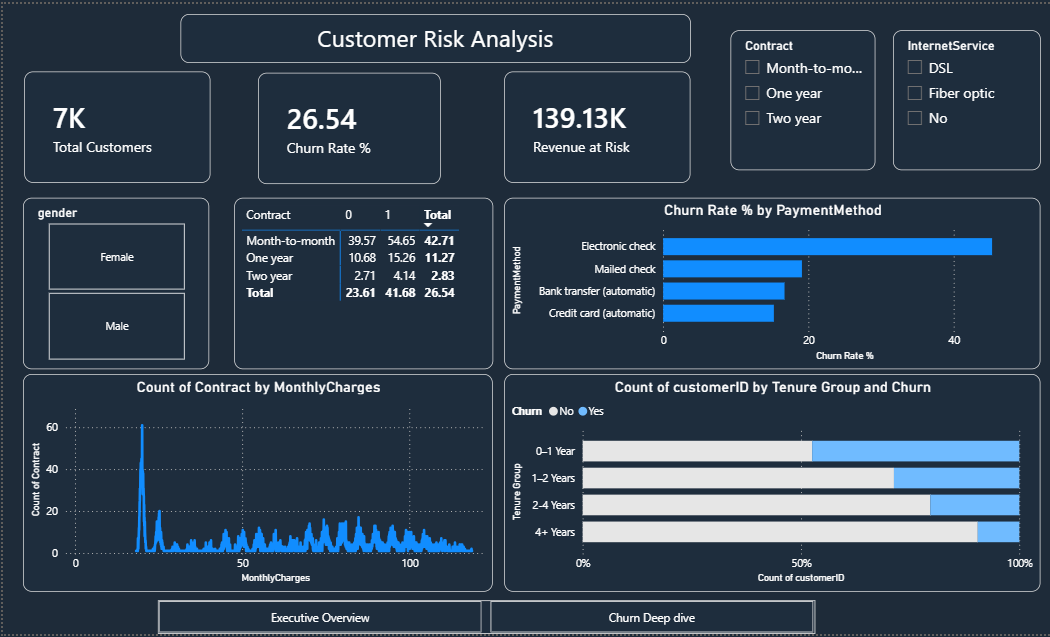

Layout of this report page (visuals, bound fields, positions):
{"tool":"powerbi","page":{"name":"Customer Risk Analysis","canvas":[1280,720],"ordinal":1},"visuals":[{"type":"cardVisual","fields":{"Data":["WA_Fn-UseC_-Telco-Customer-Churn.Total Customers"]},"box":[24.3,77.1,212.9,127.1],"z":0},{"type":"cardVisual","fields":{"Data":["WA_Fn-UseC_-Telco-Customer-Churn.Churn Rate %"]},"box":[291.4,78.6,208.6,127.1],"z":1000},{"type":"cardVisual","fields":{"Data":["WA_Fn-UseC_-Telco-Customer-Churn.Revenue at Risk"]},"box":[572.9,77.1,212.9,127.1],"z":2000},{"type":"slicer","fields":{"Values":["WA_Fn-UseC_-Telco-Customer-Churn.Contract"]},"box":[831.4,30,165.7,160],"z":6000},{"type":"slicer","fields":{"Values":["WA_Fn-UseC_-Telco-Customer-Churn.InternetService"]},"box":[1017.1,30,168.6,160],"z":7000},{"type":"hundredPercentStackedBarChart","fields":{"Category":["WA_Fn-UseC_-Telco-Customer-Churn.Tenure Group"],"Y":["CountNonNull(WA_Fn-UseC_-Telco-Customer-Churn.customerID)"],"Series":["WA_Fn-UseC_-Telco-Customer-Churn.Churn"]},"box":[572.9,422.9,612.9,248.6],"z":7001},{"type":"barChart","fields":{"Category":["WA_Fn-UseC_-Telco-Customer-Churn.PaymentMethod"],"Y":["WA_Fn-UseC_-Telco-Customer-Churn.Churn Rate %"]},"box":[572.9,221.4,612.9,195.7],"z":7002},{"type":"pivotTable","fields":{"Rows":["WA_Fn-UseC_-Telco-Customer-Churn.Contract"],"Columns":["WA_Fn-UseC_-Telco-Customer-Churn.SeniorCitizen"],"Values":["WA_Fn-UseC_-Telco-Customer-Churn.Churn Rate %"]},"box":[264.3,221.4,295.7,195.7],"z":7003},{"type":"lineChart","fields":{"Y":["CountNonNull(WA_Fn-UseC_-Telco-Customer-Churn.Contract)"],"Category":["WA_Fn-UseC_-Telco-Customer-Churn.MonthlyCharges"]},"box":[22.9,422.9,537.1,248.6],"z":7004},{"type":"slicer","fields":{"Values":["WA_Fn-UseC_-Telco-Customer-Churn.gender"]},"box":[22.9,221.4,212.9,195.7],"z":7005},{"type":"pageNavigator","box":[177.1,681.4,751.4,38.6],"z":7006},{"type":"textbox","box":[202.9,11.4,582.9,55.7],"z":7007}]}

Visuals, with their boxes on the page's 1280x720 design canvas (x1, y1, x2, y2). These are canvas units, not pixel positions in the 1050x637 screenshot, which may show the page scaled, cropped or inside an application window:
cardVisual - WA_Fn-UseC_-Telco-Customer-Churn.Total Customers: box=[24, 77, 237, 204]
cardVisual - WA_Fn-UseC_-Telco-Customer-Churn.Churn Rate %: box=[291, 79, 500, 206]
cardVisual - WA_Fn-UseC_-Telco-Customer-Churn.Revenue at Risk: box=[573, 77, 786, 204]
slicer - WA_Fn-UseC_-Telco-Customer-Churn.Contract: box=[831, 30, 997, 190]
slicer - WA_Fn-UseC_-Telco-Customer-Churn.InternetService: box=[1017, 30, 1186, 190]
hundredPercentStackedBarChart - WA_Fn-UseC_-Telco-Customer-Churn.Tenure Group x CountNonNull(WA_Fn-UseC_-Telco-Customer-Churn.customerID): box=[573, 423, 1186, 672]
barChart - WA_Fn-UseC_-Telco-Customer-Churn.PaymentMethod x WA_Fn-UseC_-Telco-Customer-Churn.Churn Rate %: box=[573, 221, 1186, 417]
pivotTable - WA_Fn-UseC_-Telco-Customer-Churn.Contract x WA_Fn-UseC_-Telco-Customer-Churn.SeniorCitizen: box=[264, 221, 560, 417]
lineChart - CountNonNull(WA_Fn-UseC_-Telco-Customer-Churn.Contract) x WA_Fn-UseC_-Telco-Customer-Churn.MonthlyCharges: box=[23, 423, 560, 672]
slicer - WA_Fn-UseC_-Telco-Customer-Churn.gender: box=[23, 221, 236, 417]
pageNavigator: box=[177, 681, 928, 720]
textbox: box=[203, 11, 786, 67]
